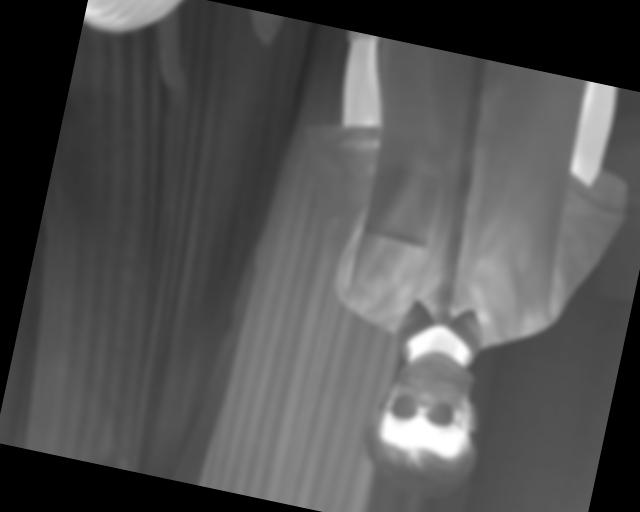face: (351, 337, 501, 506)
